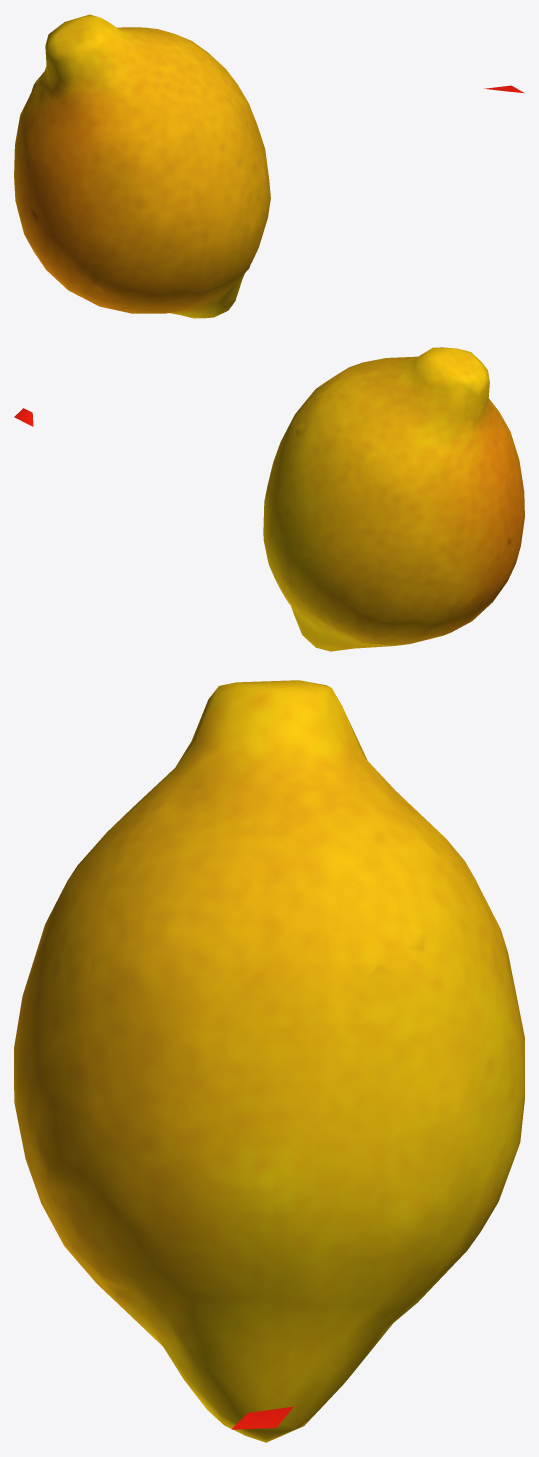
Rendered from lemon.glb.
3 views of the same model, one above another, from view 1: azimuth 30°, elevation 25°; view 2: azimuth 150°, elevation 25°; view 3: azimuth 270°, elevation 25° (orthographic). The views are drawn at different scales.
Visible parts, largest first — view 1: part_0_body.015_15.001; view 2: part_0_body.015_15.001; view 3: part_0_body.015_15.001.
Part boxes in pixels (<box>): part_0_body.015_15.001: <box>14,14,270,318</box>; part_0_body.015_15.001: <box>263,347,524,651</box>; part_0_body.015_15.001: <box>14,680,524,1442</box>.
Size of the model in its own units: 0.2147 by 0.1359 by 0.098.
Materials: 2 (2 with a texture image).
